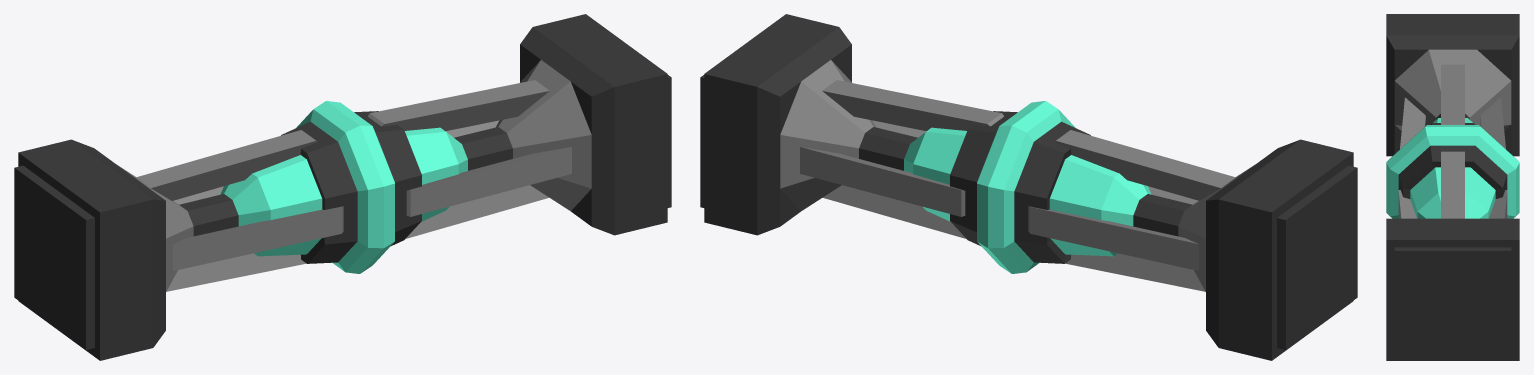
File: MDS.obj
3 views of the same model, side by side, from view 1: azimuth 30°, elevation 25°; view 2: azimuth 150°, elevation 25°; view 3: azimuth 270°, elevation 25° (orthographic). The views are drawn at different scales.
Visible parts, largest first — view 1: cuboid, cylinder, sphere, sphere_selection, torus; view 2: cuboid, cylinder, sphere, sphere_selection, torus; view 3: cuboid, cylinder, torus, sphere, sphere_selection.
Boxes of the visible parts, <box> form: cuboid: <box>14,14,671,360</box>; cylinder: <box>118,60,591,291</box>; sphere: <box>220,127,467,256</box>; sphere_selection: <box>281,111,421,263</box>; torus: <box>296,101,394,273</box>; cuboid: <box>700,14,1357,360</box>; cylinder: <box>780,60,1253,291</box>; sphere: <box>904,127,1151,256</box>; sphere_selection: <box>950,111,1090,263</box>; torus: <box>977,101,1075,273</box>; cuboid: <box>1386,14,1519,360</box>; cylinder: <box>1394,49,1511,218</box>; torus: <box>1386,125,1519,218</box>; sphere: <box>1410,118,1495,218</box>; sphere_selection: <box>1398,123,1507,215</box>.
Bounding box in the file's own units: 4.12 × 1 × 1.
